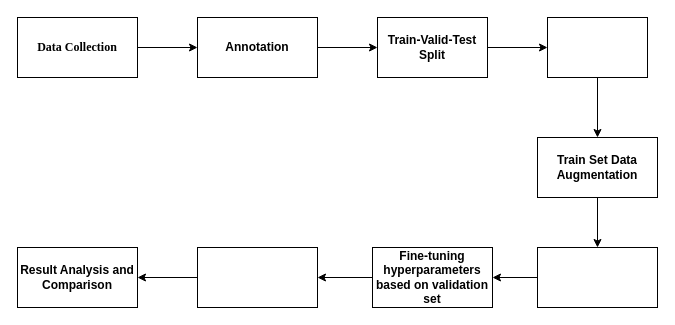
The diagram is 675 pixels wide and 325 high, and some of its shapes have lost their labels. Here are the shapes that lost their labels. From the top down, the centre of each, then its label:
At (597,47): "Data Preprocessing".
At (257,277): "Evaluation on Test Set".
At (597,277): "Training YOLOv5, YOLOX, Faster R-CNN".
